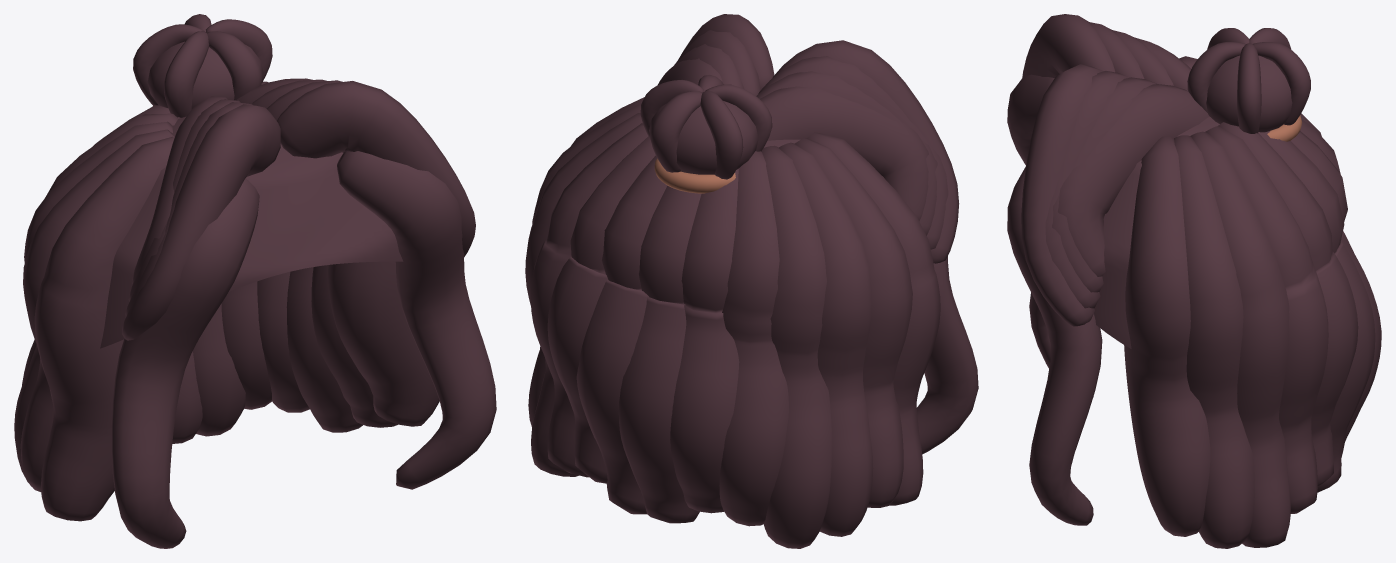
Rendered from studio_half_bun_medium.glb.
3 renders of one model, left to right at view 1: azimuth 30°, elevation 25°; view 2: azimuth 150°, elevation 25°; view 3: azimuth 270°, elevation 25°, orthographic. The views are drawn at different scales.
Parts seen in each view (by area): view 1: half_bun; view 2: half_bun; view 3: half_bun.
Boxes of the visible parts, x1=… form: half_bun: x1=14, y1=14, x2=496, y2=548; half_bun: x1=525, y1=14, x2=978, y2=548; half_bun: x1=1007, y1=14, x2=1381, y2=548.
Size of the model in its own units: 0.5845 by 0.6019 by 0.4657.
